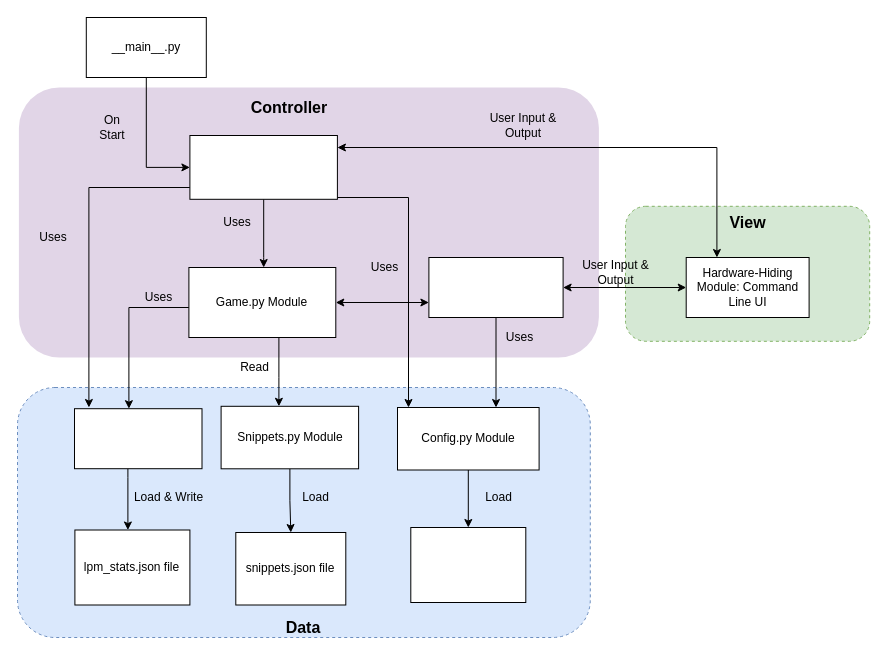
The diagram is 888 pixels wide and 655 high, and some of its shapes have lost their labels. Here are the shapes that lost their labels. From the top down, the centre of each, then its label:
At pixel 263 166: "Commandline.py Module".
At pixel 495 287: "Screen.py Module".
At pixel 138 438: "Stats.py Module".
At pixel 468 564: "config.json File".
